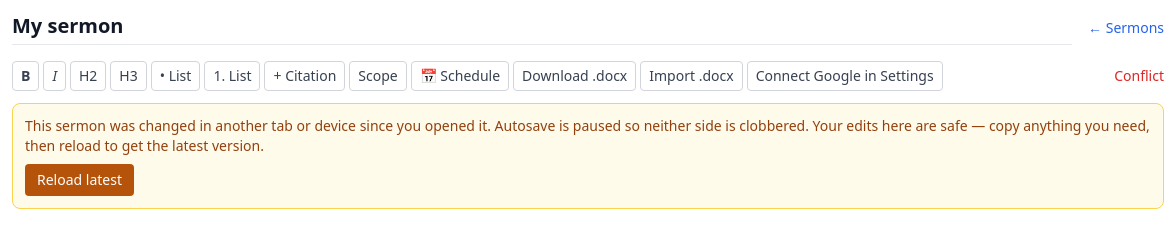
Test: SermonEditor — conflict (409) › stops autosaving, shows the banner, and reloads latest on demand
The width and height of the screenshot is (1176, 226).
expect the message shows "changed in another tab or device": met, box x1=25 y1=116 x2=1150 y2=155
Click the button "Reload latest". click: {"x": 80, "y": 180}
box: x1=25 y1=164 x2=134 y2=196
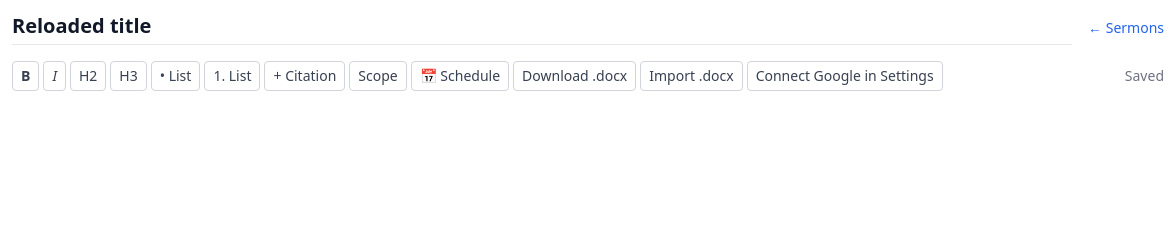
expect the field named "Sermon title" holds "Reloaded title": met, box x1=12 y1=12 x2=1072 y2=45
expect the message is gone: met
